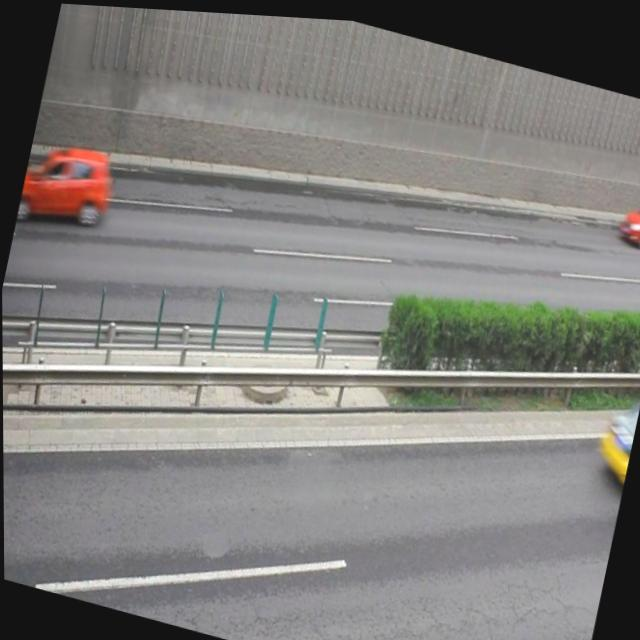car: (16, 131, 115, 235), (589, 365, 640, 485), (612, 180, 640, 245)
